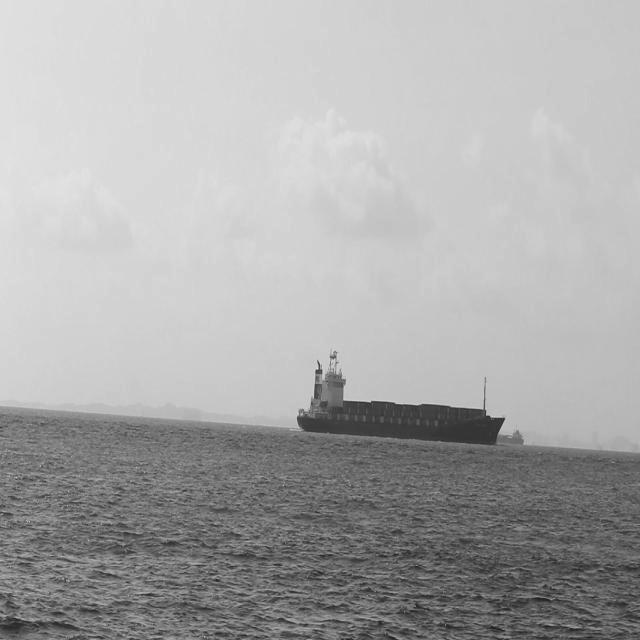ship: (296, 361, 506, 446), (496, 426, 526, 446)
